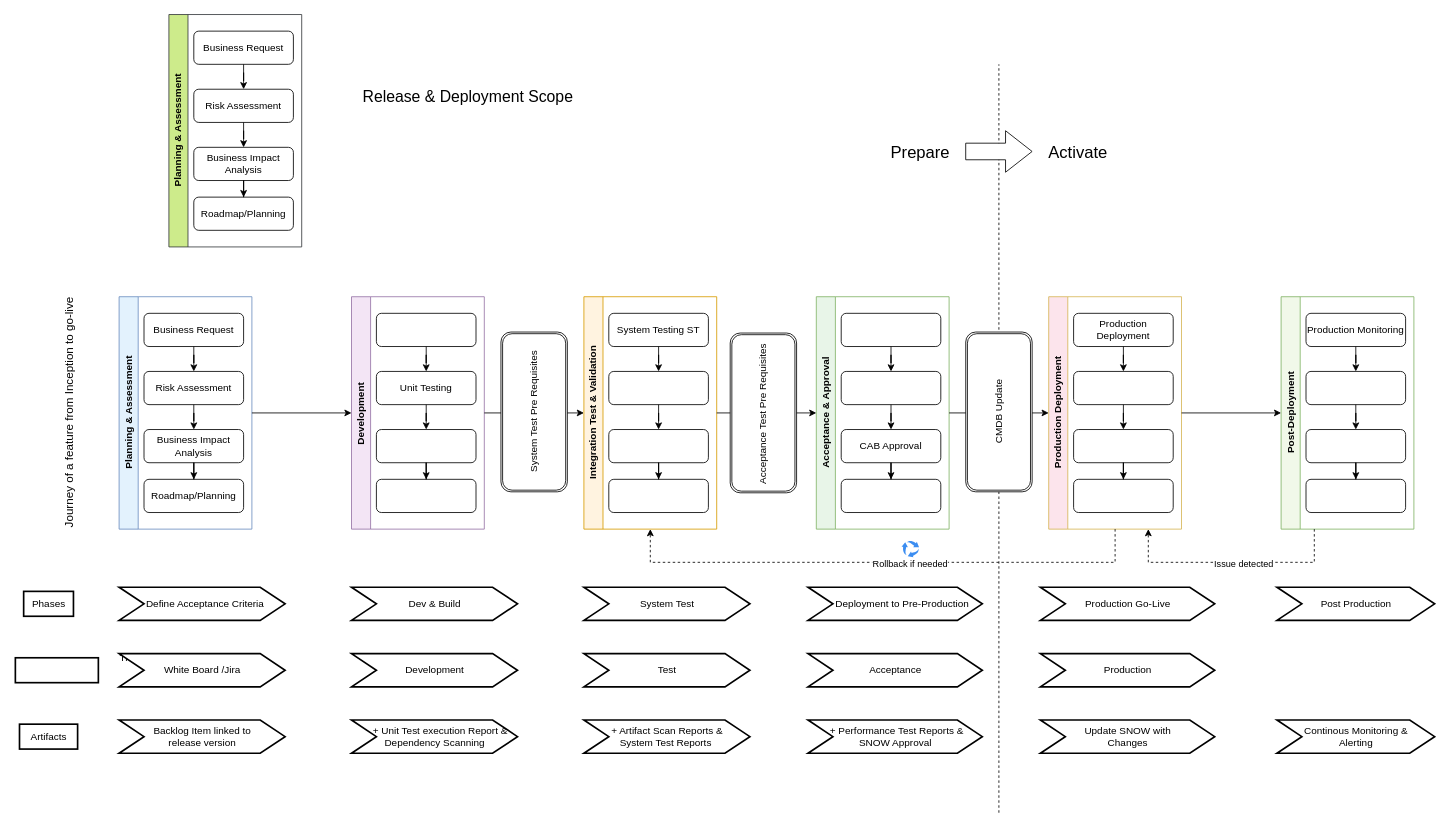
Image size: 1449x828. Some labels were removed from this diagram. Each missing label, with the centre of its shape:
"Acceptance Environment UAT" belongs at [890,329].
"Business Acceptance Testing" belongs at [890,388].
"Code Review & Quality Gates" belongs at [426,446].
"Configuration Management" belongs at [658,446].
"Deployment Authorization *" belongs at [890,495].
"Environments" belongs at [56,670].
"Go-Live Confirmation" belongs at [1123,495].
"Incident Management" belongs at [1355,388].
"Integration Testing" belongs at [658,388].
"Local Development Environment" belongs at [426,329].
"Performance Validation" belongs at [1355,446].
"Release Package Creation" belongs at [658,495].
"Security Scanning" belongs at [426,495].
"Service Validation" belongs at [1123,446].
"Smoke Testing" belongs at [1123,388].
"Stakeholder Communication" belongs at [1355,495].
